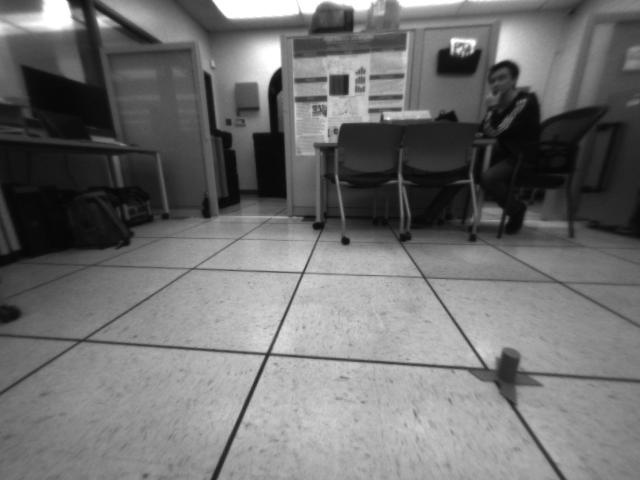X: (468, 345, 543, 405)
